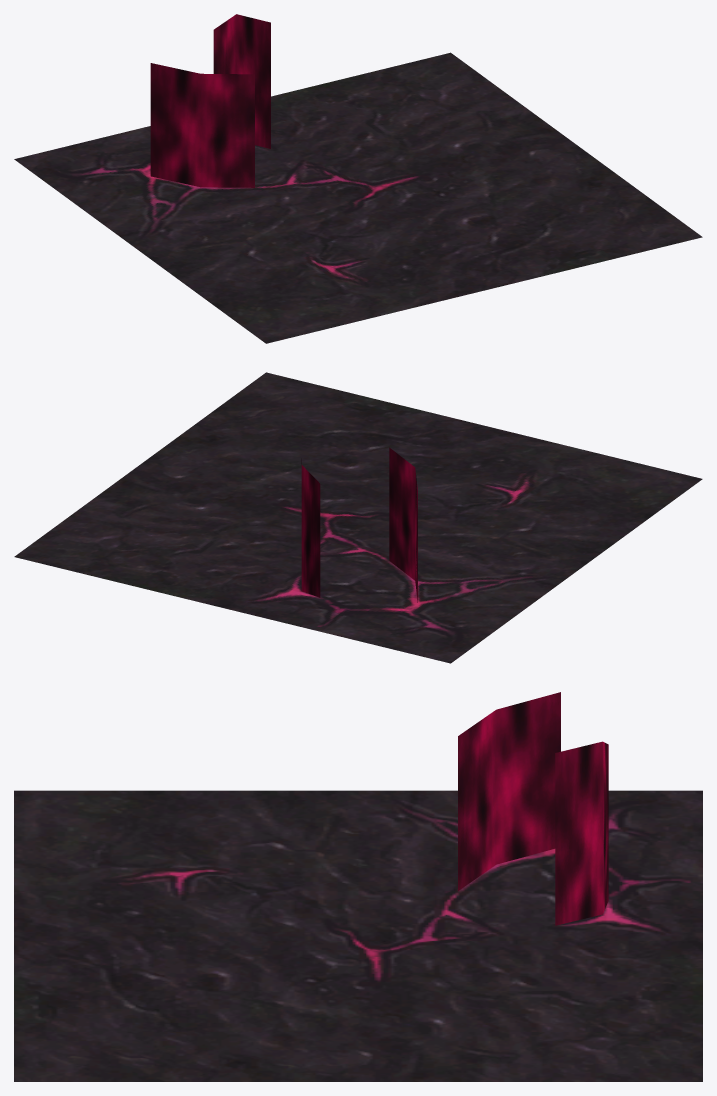
File: cave_floor_blank_03.fbx
The picture shows the model from 3 angles, top to bottom: view 1: azimuth 30°, elevation 25°; view 2: azimuth 150°, elevation 25°; view 3: azimuth 270°, elevation 25°; orthographic projection. The views are drawn at different scales.
Visible parts, largest first — view 1: cave_floor_blank_03-0; view 2: cave_floor_blank_03-0; view 3: cave_floor_blank_03-0.
Boxes of the visible parts, x1,y1,x2,y2 form: cave_floor_blank_03-0: (14,14,702,343); cave_floor_blank_03-0: (14,372,702,663); cave_floor_blank_03-0: (14,692,702,1081).
Size of the model in its own units: 4 by 1.11 by 4.
